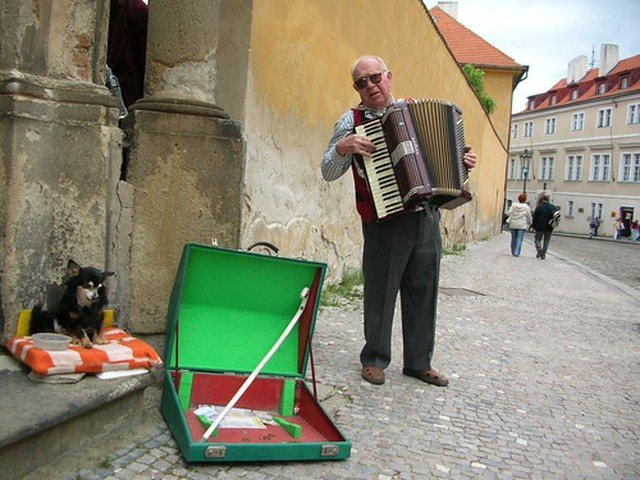Person: (312, 53, 473, 390), (499, 190, 569, 262)
